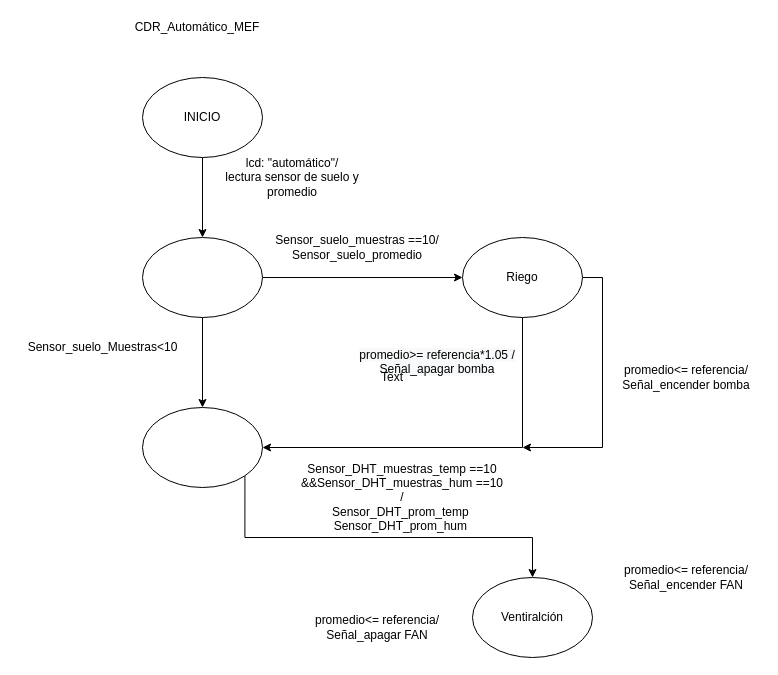
This 778x675 diagram has some shape labels left out. Each missing label, with the centre of its shape:
"Sensor_DHT11" belongs at [202,447].
"Sensor_Suelo" belongs at [202,277].
